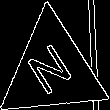N_SE: (24, 38, 80, 102)
